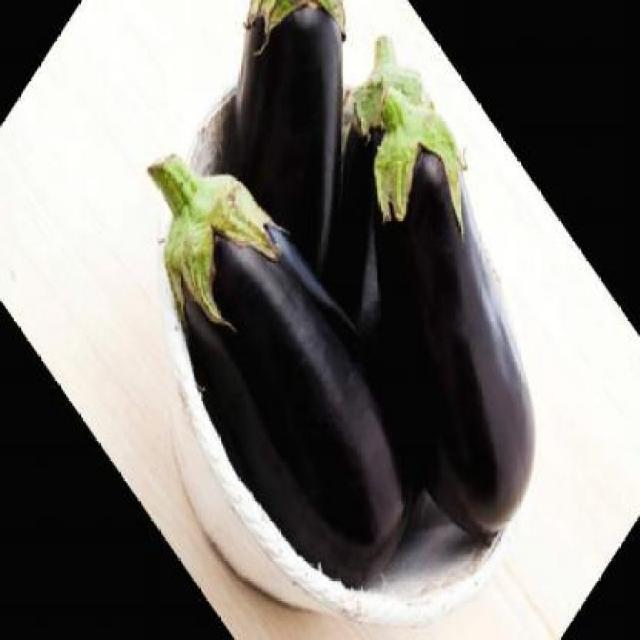eggplant: (142, 150, 411, 593), (337, 32, 540, 546), (228, 0, 356, 292)
